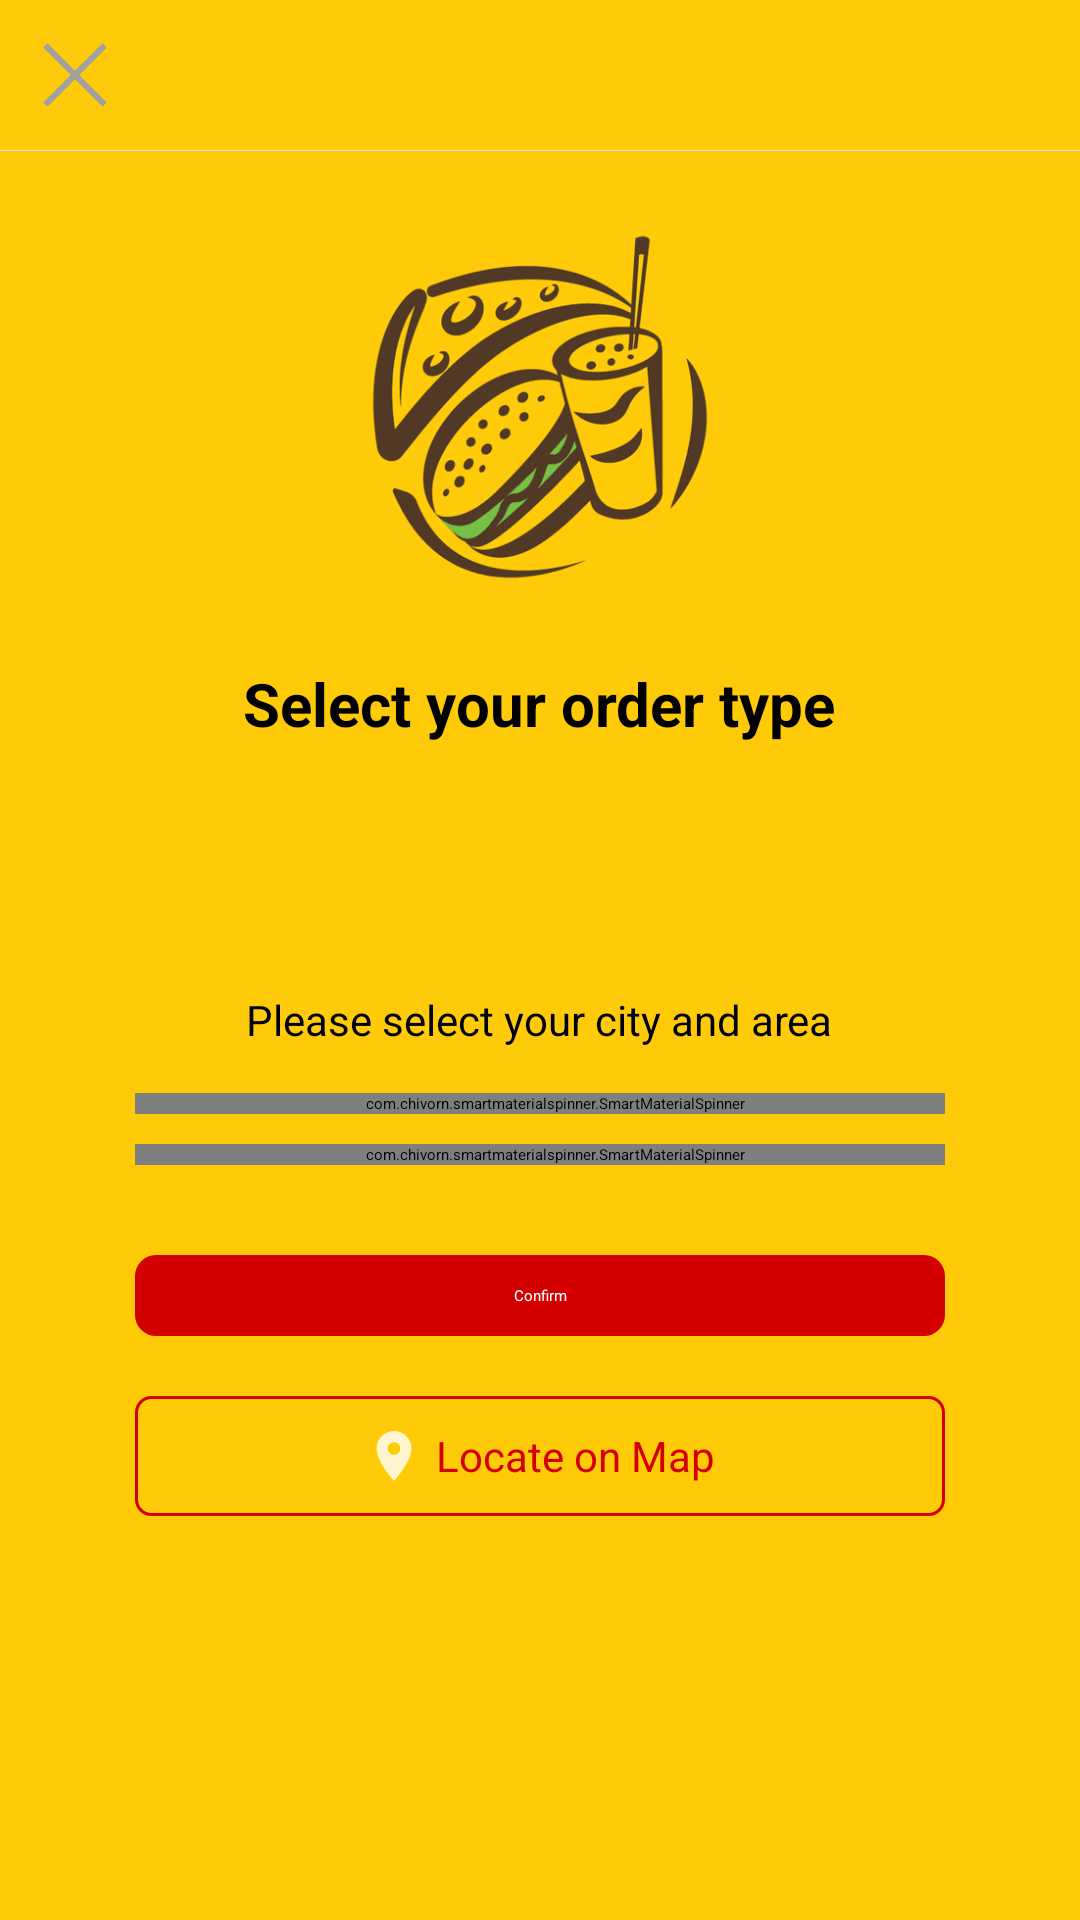

Where to tap for icons on this 1080×1920 app screen, as (x,y):
cross: (75,75)
marker: (394,1456)
